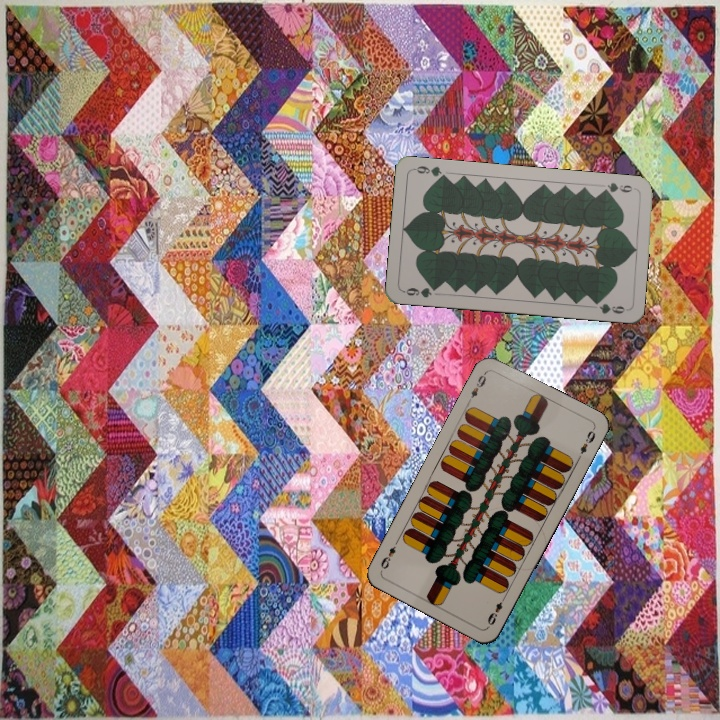E9: (464, 368, 489, 405), (483, 592, 508, 628)
G9: (400, 282, 441, 300), (597, 178, 638, 196)
